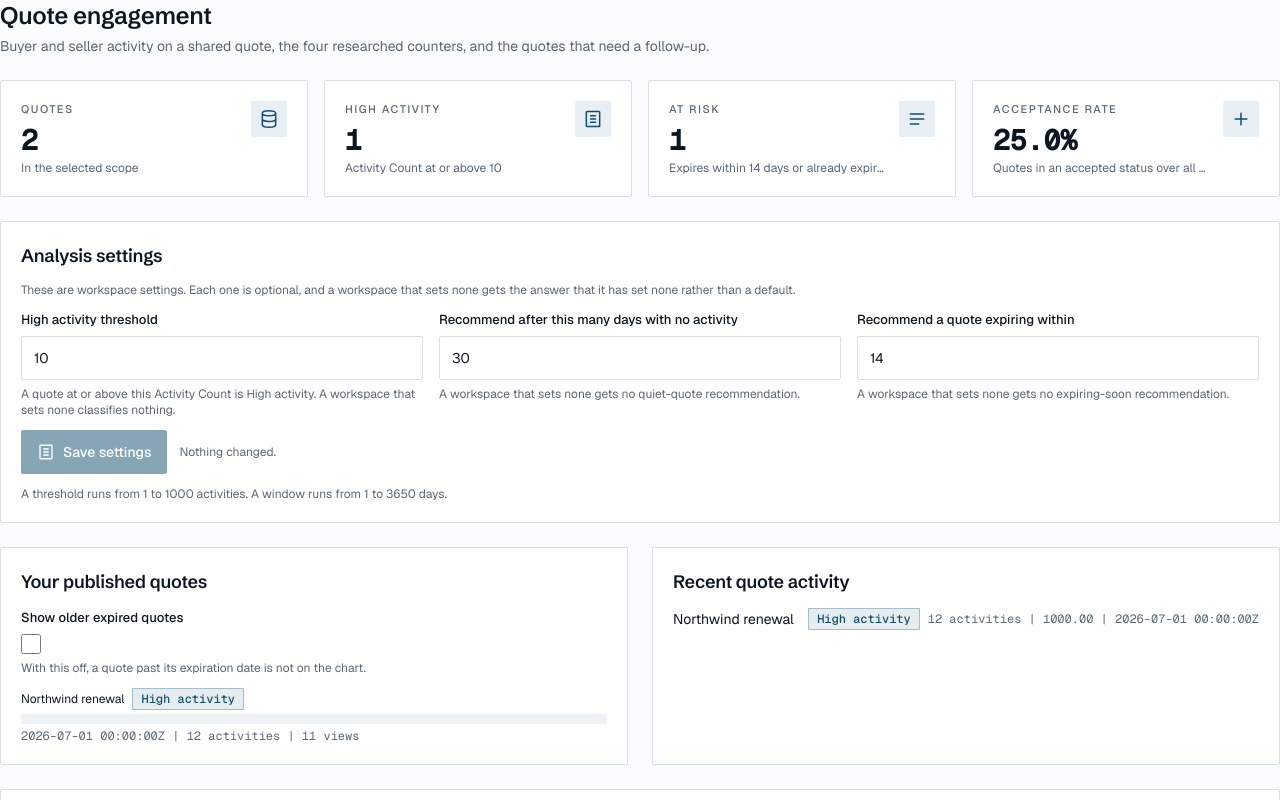
Scenario: the page › saves a setting the rules accept
Replace the text in the number field labelled "High activity threshold" with "7" at {"x": 222, "y": 358}, box [21,336,423,380]
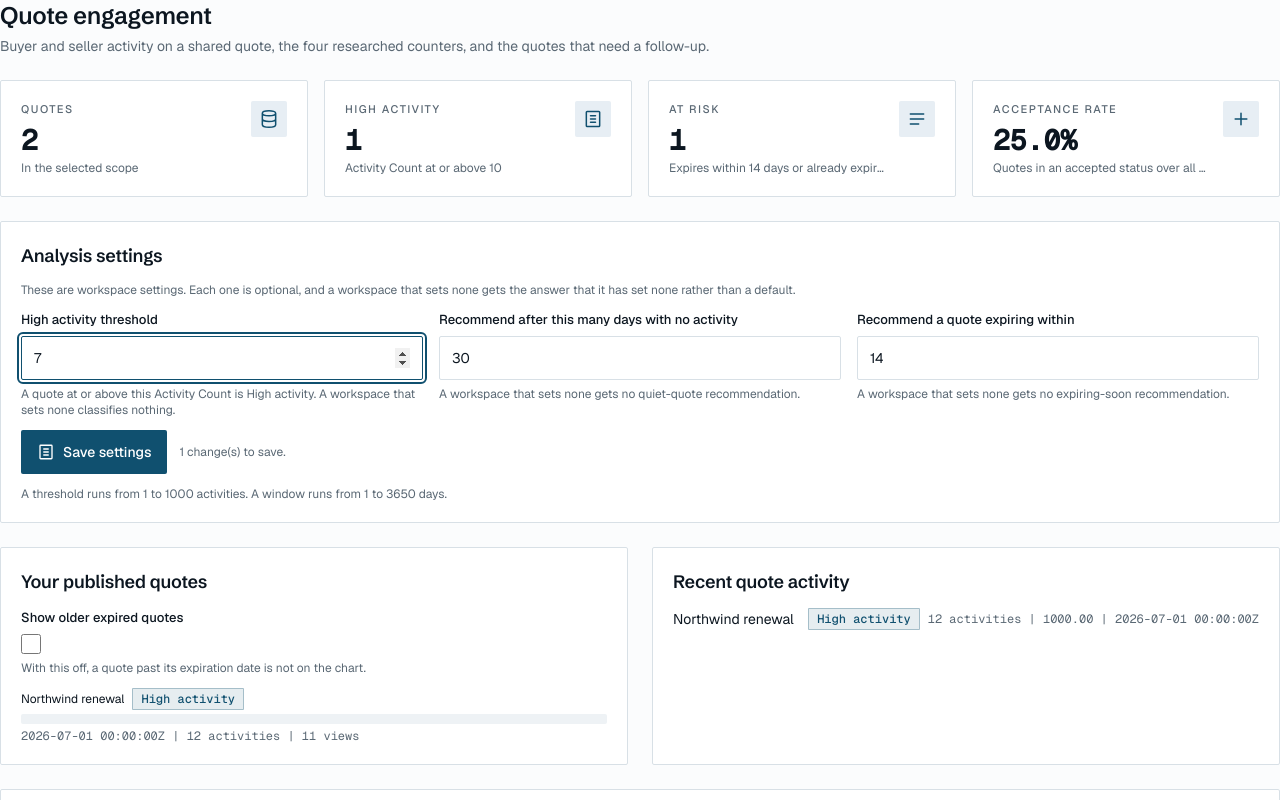
Click the button "Save settings" at {"x": 94, "y": 452}, box [21,430,168,474]
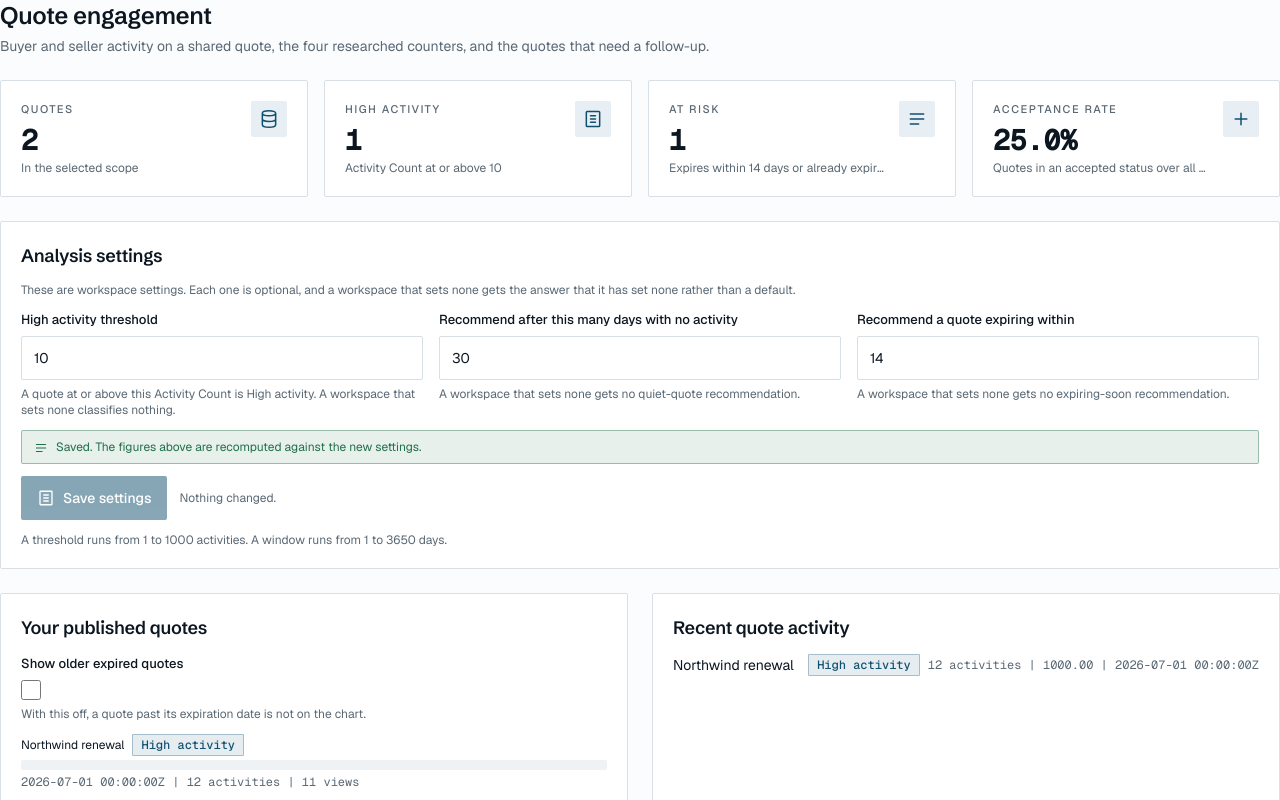
Expected: the text "Saved" is shown, [56,439,422,455]
